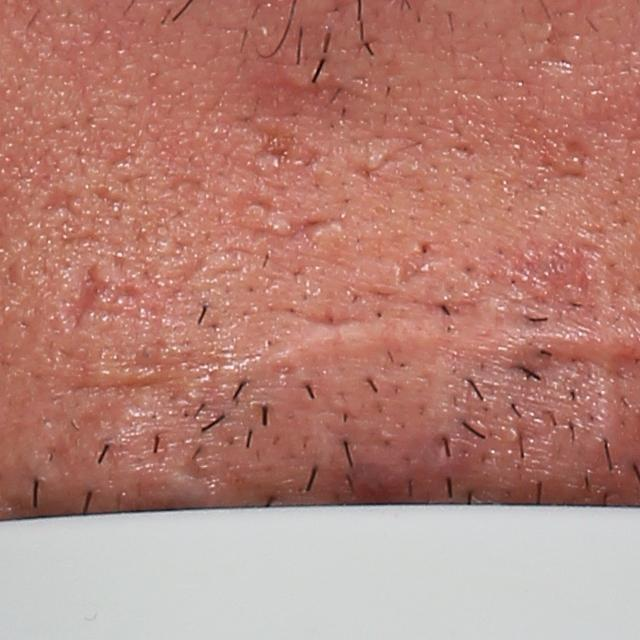atrophic_scar: (66, 262, 124, 333), (391, 237, 454, 287), (249, 118, 304, 168), (548, 135, 600, 187), (298, 216, 355, 244), (37, 186, 82, 219), (233, 190, 282, 217), (55, 228, 104, 249), (449, 140, 480, 162)
